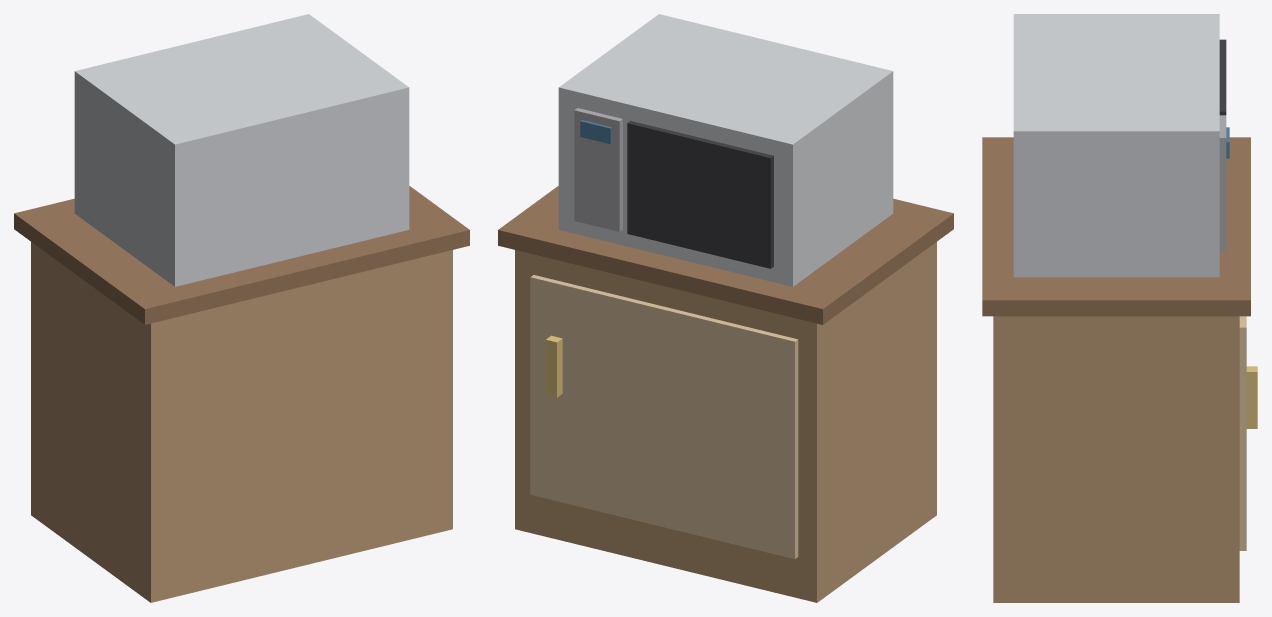
Rendered from microwave_cart.glb.
3 views of the same model, side by side, from view 1: azimuth 30°, elevation 25°; view 2: azimuth 150°, elevation 25°; view 3: azimuth 270°, elevation 25° (orthographic). The views are drawn at different scales.
Visible parts, largest first — view 1: microwave_cart; view 2: microwave_cart; view 3: microwave_cart.
Part boxes in pixels (x1,y1,x2,y2): microwave_cart: (14, 14, 469, 602); microwave_cart: (498, 14, 953, 602); microwave_cart: (982, 14, 1257, 602).
Size of the model in its own units: 0.86 by 1.12 by 0.615.
